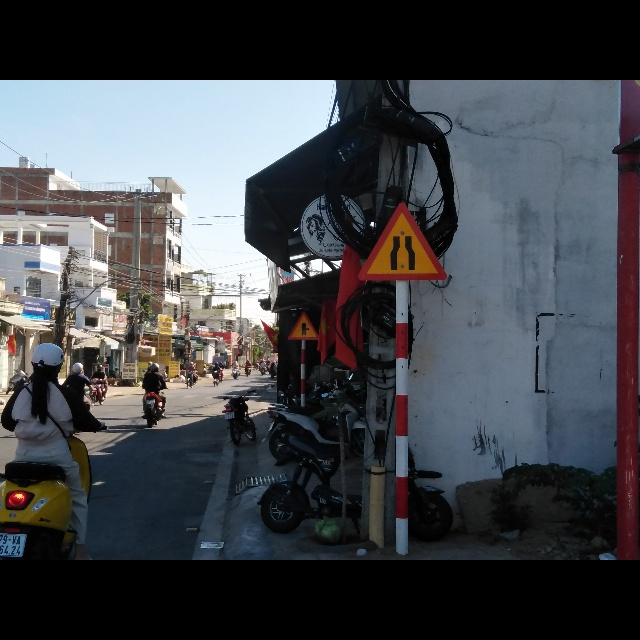Giao nhau với đường không ưu tiên: (286, 311, 320, 339)
Đường bị hẹp cả hai bên: (358, 199, 448, 282)
